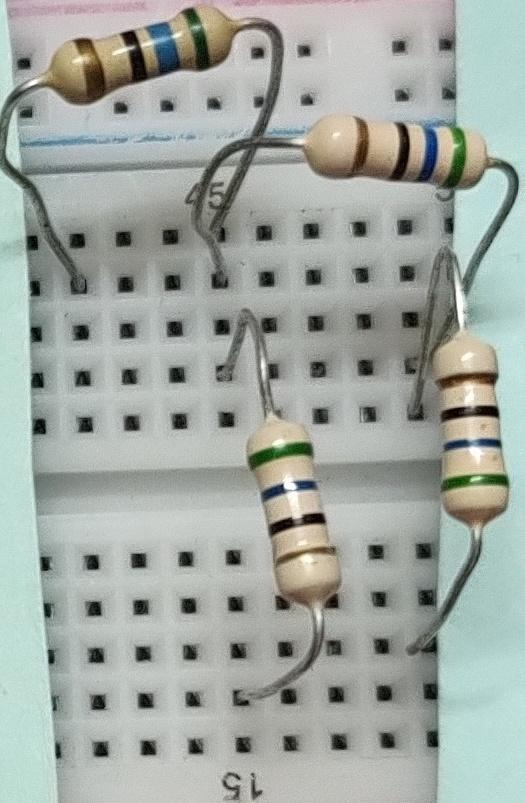resistor: (37, 0, 242, 125), (235, 402, 349, 621), (424, 320, 525, 544), (295, 100, 498, 198)
